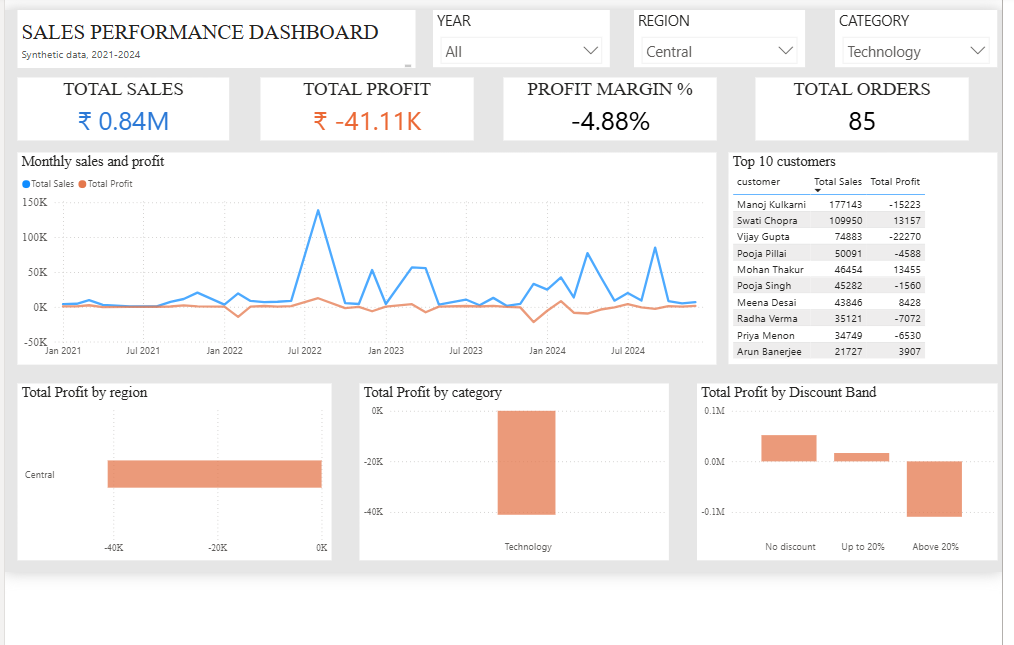

This screenshot's page, from the dashboard's own definition file:
{"tool":"powerbi","page":{"name":"Page 1","canvas":[1280,720],"ordinal":0},"visuals":[{"type":"card","title":"TOTAL SALES","fields":{"Values":["superstore_clean.Total Sales"]},"box":[17.3,86.5,271.2,80.8],"z":0},{"type":"card","title":"TOTAL PROFIT","fields":{"Values":["superstore_clean.Total Profit"]},"box":[328.8,86.5,273.1,80.8],"z":1000},{"type":"card","title":"PROFIT MARGIN %","fields":{"Values":["superstore_clean.Profit Margin %"]},"box":[640.4,86.5,273.1,80.8],"z":2000},{"type":"card","title":"TOTAL ORDERS","fields":{"Values":["superstore_clean.Total Orders"]},"box":[963.5,86.5,273.1,80.8],"z":3000},{"type":"textbox","title":"SALES PERFORMANCE DASHBOARD","box":[17.3,0,509.6,73.1],"z":4000},{"type":"lineChart","title":"Monthly sales and profit","fields":{"Y":["superstore_clean.Total Sales","superstore_clean.Total Profit"],"Category":["superstore_clean.month.Variation.Date Hierarchy.Year","superstore_clean.month.Variation.Date Hierarchy.Quarter","superstore_clean.month.Variation.Date Hierarchy.Month","superstore_clean.month.Variation.Date Hierarchy.Day"]},"box":[17,183.3,895.8,272.1],"z":5000},{"type":"clusteredBarChart","fields":{"Category":["superstore_clean.region"],"Y":["superstore_clean.Total Profit"]},"box":[17,478.1,402.5,226.8],"z":6000},{"type":"clusteredColumnChart","fields":{"Category":["superstore_clean.category"],"Y":["superstore_clean.Total Profit"]},"box":[455.4,478.1,396.9,226.8],"z":7000},{"type":"clusteredColumnChart","fields":{"Category":["superstore_clean.Discount Band"],"Y":["superstore_clean.Total Profit"]},"box":[888.2,478.1,385.5,226.8],"z":8000},{"type":"tableEx","title":"Top 10 customers","fields":{"Values":["superstore_clean.customer_name","superstore_clean.Total Sales","superstore_clean.Total Profit"]},"box":[928.2,183,344.7,271.5],"z":9000},{"type":"slicer","title":"YEAR","fields":{"Values":["superstore_clean.year"]},"box":[550,0,226.9,73.1],"z":10000},{"type":"slicer","title":"REGION","fields":{"Values":["superstore_clean.region"]},"box":[807.7,0,219.2,73.1],"z":12001},{"type":"slicer","title":"CATEGORY","fields":{"Values":["superstore_clean.category"]},"box":[1065.4,0,207.7,73.1],"z":12002}]}

Visuals, with their boxes in screenshot pixels (x1, y1, x2, y2):
"TOTAL SALES" card: <region>16, 89, 228, 152</region>
"TOTAL PROFIT" card: <region>260, 89, 473, 152</region>
"PROFIT MARGIN %" card: <region>503, 89, 716, 152</region>
"TOTAL ORDERS" card: <region>755, 89, 969, 152</region>
"SALES PERFORMANCE DASHBOARD" textbox: <region>16, 21, 414, 78</region>
"Monthly sales and profit" lineChart: <region>16, 164, 716, 377</region>
clusteredBarChart - superstore_clean.region x superstore_clean.Total Profit: <region>16, 395, 330, 572</region>
clusteredColumnChart - superstore_clean.category x superstore_clean.Total Profit: <region>358, 395, 668, 572</region>
clusteredColumnChart - superstore_clean.Discount Band x superstore_clean.Total Profit: <region>697, 395, 998, 572</region>
"Top 10 customers" tableEx: <region>728, 164, 997, 376</region>
"YEAR" slicer: <region>432, 21, 610, 78</region>
"REGION" slicer: <region>634, 21, 805, 78</region>
"CATEGORY" slicer: <region>835, 21, 997, 78</region>
